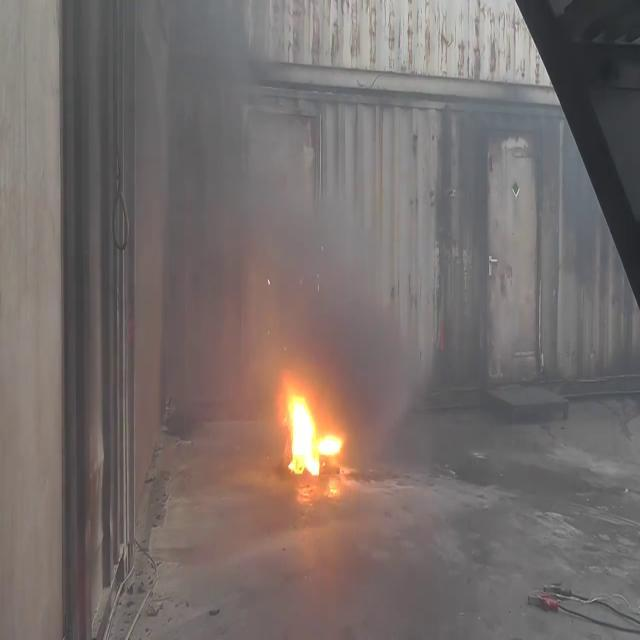Fire: (282, 378, 344, 481)
Smoke: (140, 5, 430, 428)
